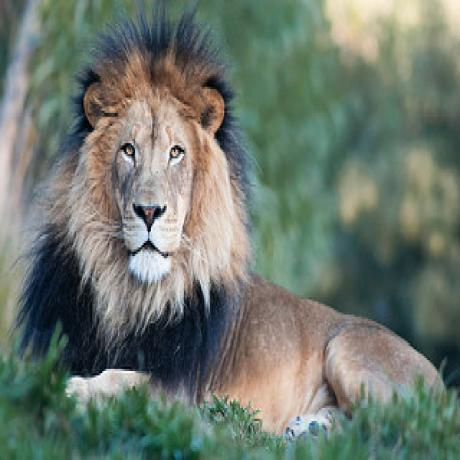Lion: (26, 0, 447, 422)
